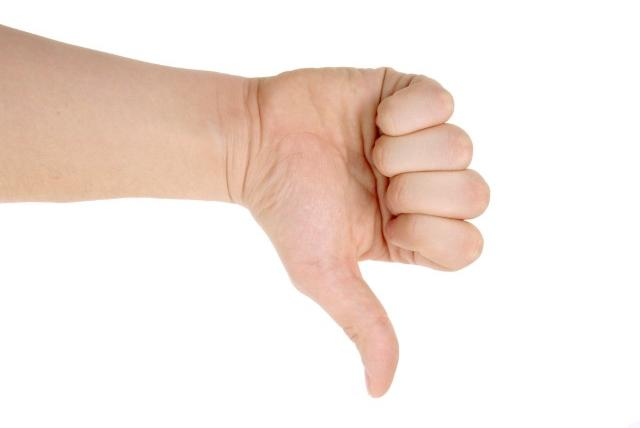thumbsdown: (324, 69, 493, 400)
